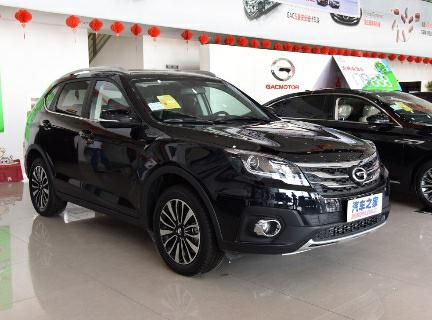广汽传祺-传祺GS5Super: (25, 67, 393, 278)
